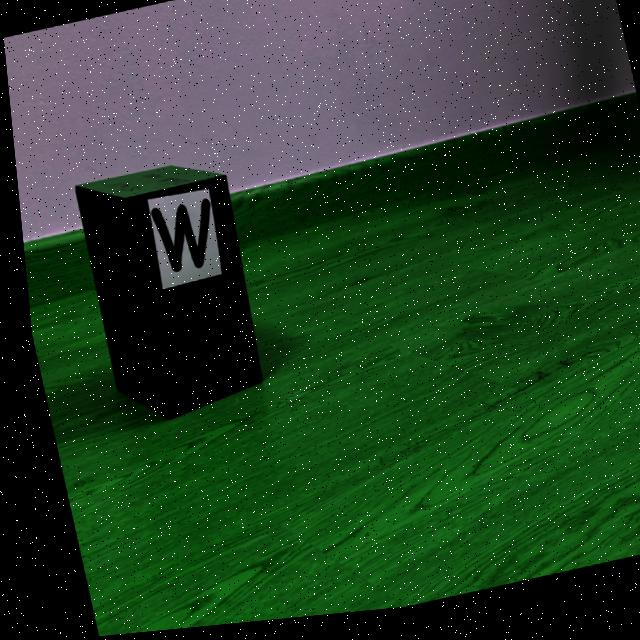W: (147, 202, 205, 275)
